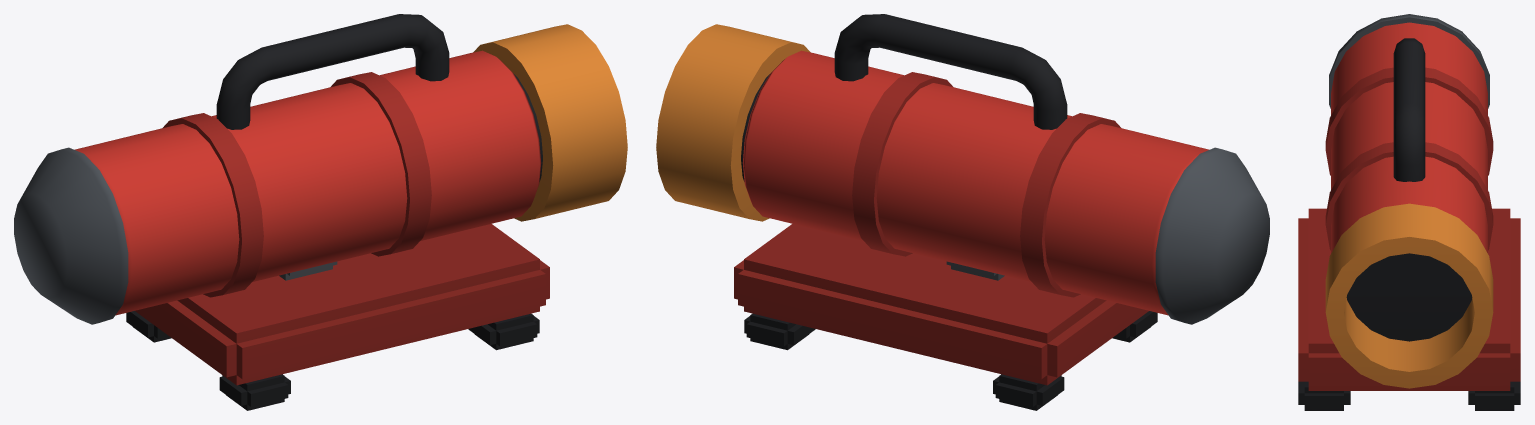
The model's file is SM_Heater_Torpedo_01.glb.
The picture shows the model from 3 angles, left to right: view 1: azimuth 30°, elevation 25°; view 2: azimuth 150°, elevation 25°; view 3: azimuth 270°, elevation 25°; orthographic projection. The views are drawn at different scales.
Visible parts, largest first — view 1: SM_Heater_Torpedo_01; view 2: SM_Heater_Torpedo_01; view 3: SM_Heater_Torpedo_01.
Boxes of the visible parts, left/top/right/bottom form: SM_Heater_Torpedo_01: left=14, top=14, right=627, bottom=410; SM_Heater_Torpedo_01: left=656, top=14, right=1269, bottom=410; SM_Heater_Torpedo_01: left=1298, top=14, right=1520, bottom=410.
Size of the model in its own units: 0.87 by 0.4628 by 0.34.
Materials: 1 (1 with a texture image).
